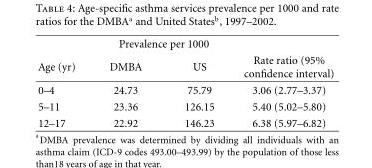table: (37, 37, 333, 128)
table column: (228, 37, 333, 128), (91, 37, 162, 128), (162, 37, 228, 128), (37, 37, 91, 128)
table column header: (37, 37, 333, 81)
table row: (37, 51, 333, 81), (37, 81, 333, 98), (37, 98, 333, 114), (37, 37, 333, 51), (37, 114, 333, 128)
table spanning cell: (228, 37, 333, 81), (37, 37, 91, 81), (91, 37, 228, 51)
